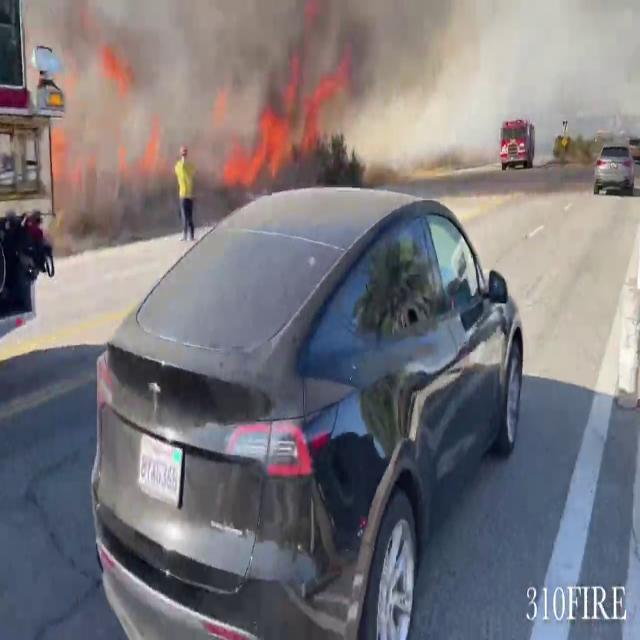Fire: (226, 108, 298, 188)
Smoke: (49, 0, 496, 173)
